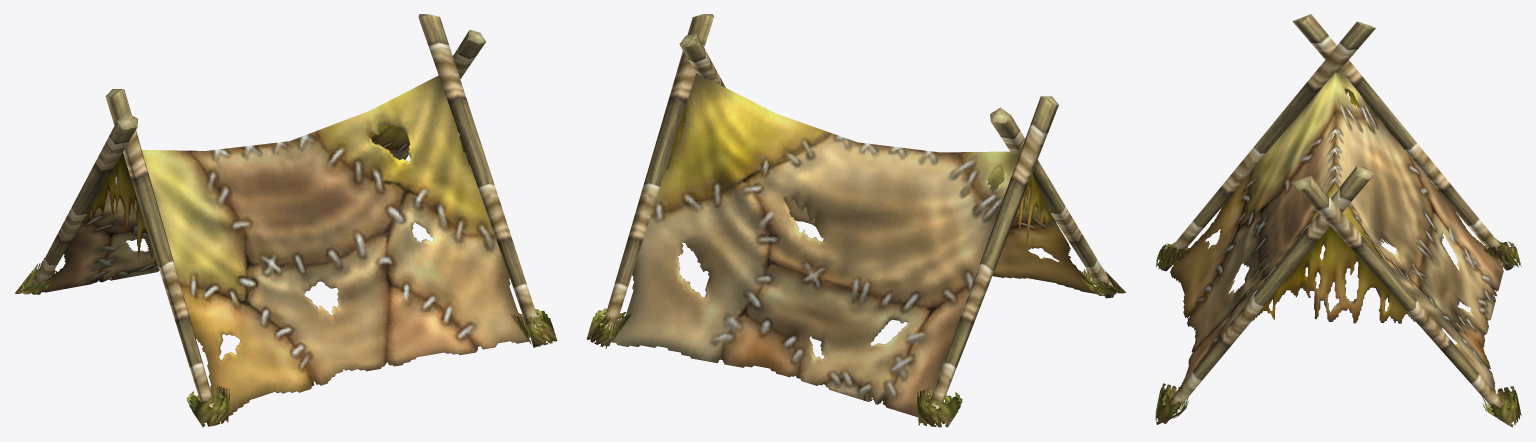
File: gnolltent03.glb
3 views of the same model, side by side, from view 1: azimuth 30°, elevation 25°; view 2: azimuth 150°, elevation 25°; view 3: azimuth 270°, elevation 25° (orthographic). The views are drawn at different scales.
Bounding box in the file's own units: 3.65 × 2.45 × 3.2.
Materials: 1 (1 with a texture image).
